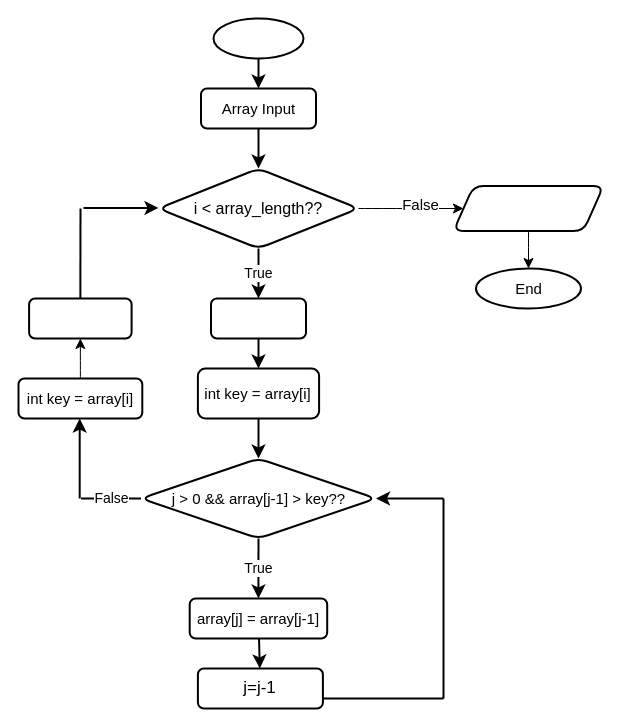
Image size: 621x726. Some labels were removed from this diagram. Each missing label, with the centre of its shape:
"i=i+1" belongs at (x=80, y=318).
"int j = i" belongs at (x=258, y=318).
"Return array" belongs at (x=528, y=208).
"Start" belongs at (x=258, y=38).
